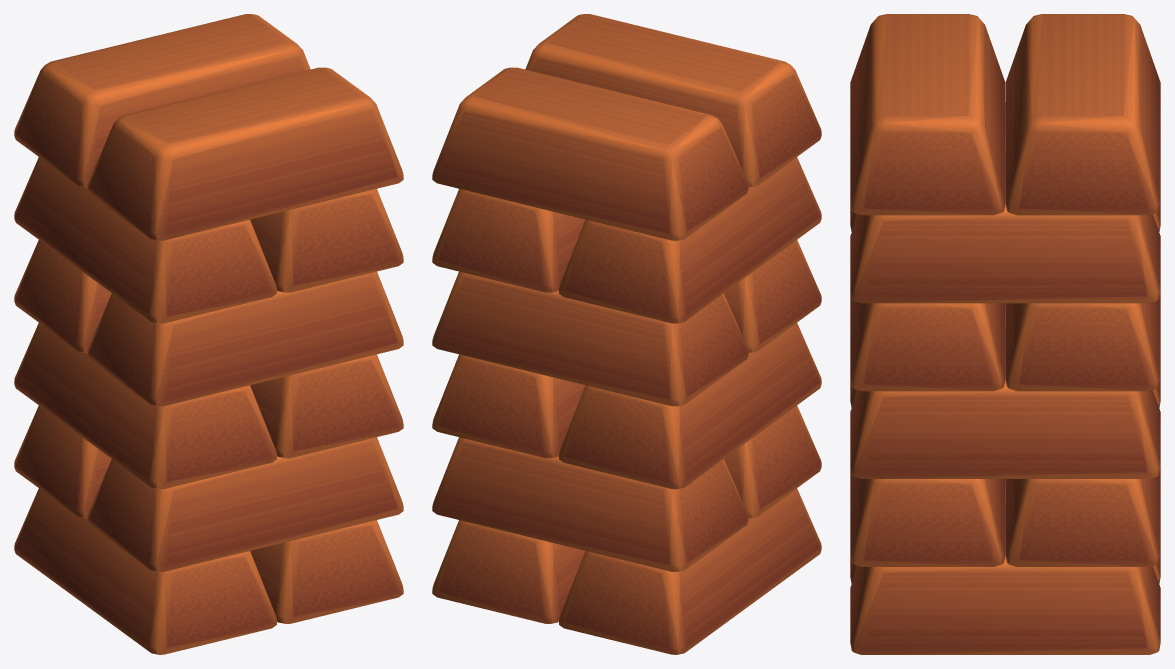
File: Copper_Bars_Stack_Medium.gltf
3 views of the same model, side by side, from view 1: azimuth 30°, elevation 25°; view 2: azimuth 150°, elevation 25°; view 3: azimuth 270°, elevation 25° (orthographic). The views are drawn at different scales.
Parts seen in each view (by area): view 1: Copper_Bars_Stack_Medium; view 2: Copper_Bars_Stack_Medium; view 3: Copper_Bars_Stack_Medium.
Boxes of the visible parts, x1,y1,x2,y2 form: Copper_Bars_Stack_Medium: (14, 14, 403, 654); Copper_Bars_Stack_Medium: (432, 14, 821, 654); Copper_Bars_Stack_Medium: (850, 14, 1160, 654).
Size of the model in its own units: 0.8 by 1.5 by 0.8.
1 material, 1 textured.
